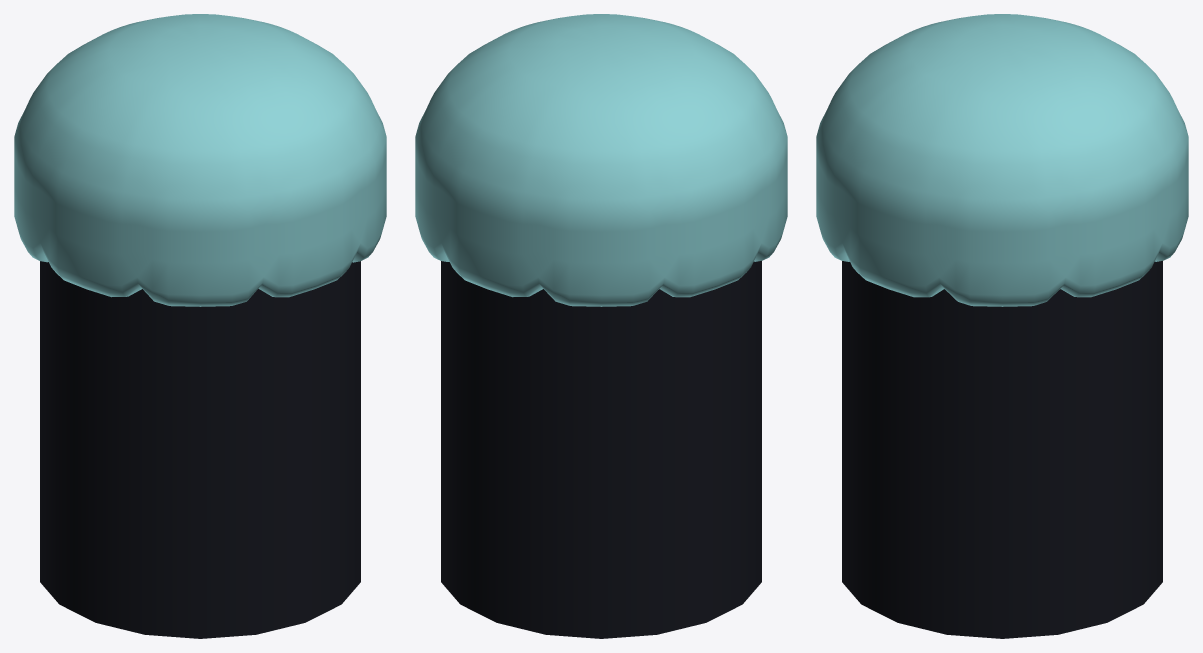
File: montagne_02.fbx
3 renders of one model, left to right at view 1: azimuth 30°, elevation 25°; view 2: azimuth 150°, elevation 25°; view 3: azimuth 270°, elevation 25°, orthographic.
Visible parts, largest first — view 1: Base, Toit; view 2: Base, Toit; view 3: Base, Toit.
Boxes of the visible parts, <box> form: Base: <box>40,261,360,638</box>; Toit: <box>14,14,386,306</box>; Base: <box>441,261,761,638</box>; Toit: <box>415,14,787,306</box>; Base: <box>842,261,1162,638</box>; Toit: <box>816,14,1188,306</box>.
Bounding box in the file's own units: 530 × 834 × 533.
